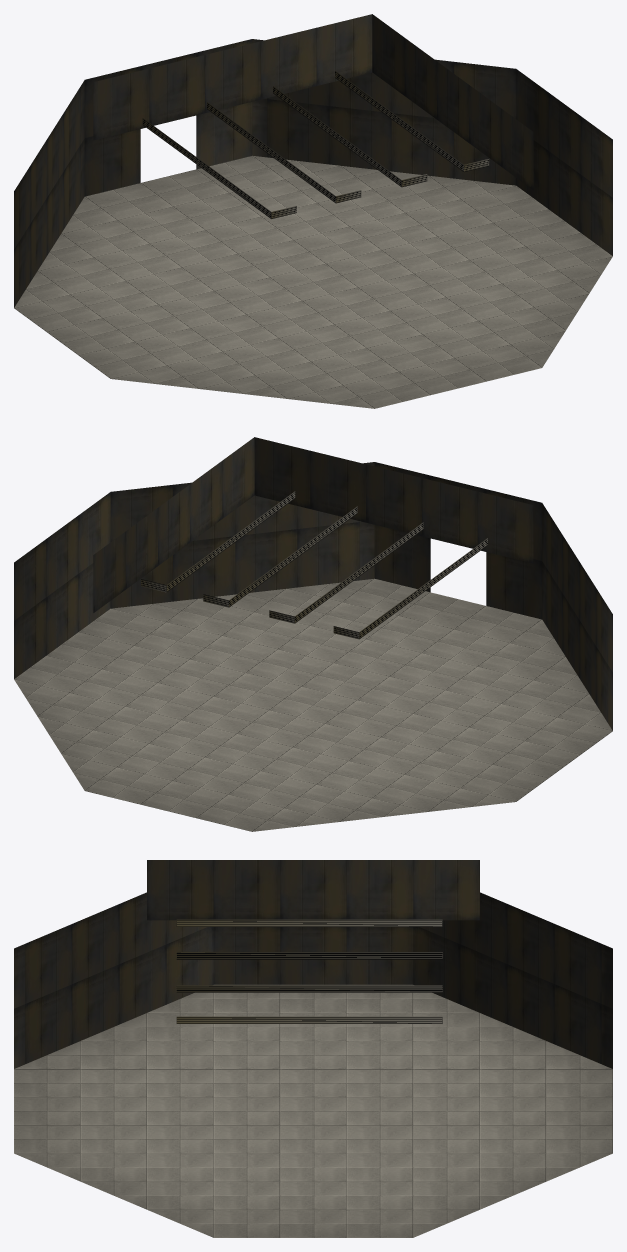
Rendered from room_12.glb.
The picture shows the model from 3 angles, top to bottom: view 1: azimuth 30°, elevation 25°; view 2: azimuth 150°, elevation 25°; view 3: azimuth 270°, elevation 25°; orthographic projection. The views are drawn at different scales.
Parts seen in each view (by area): view 1: floor, walls, Lights1, Lights2, Lights4, Lights6; view 2: floor, walls, Lights1, Lights2, Lights4, Lights6; view 3: floor, walls, Lights2, Lights4, Lights1, Lights6.
Boxes of the visible parts, <box> form: floor: <box>14,155,612,408</box>; walls: <box>14,14,612,307</box>; Lights1: <box>335,71,489,171</box>; Lights2: <box>273,86,427,187</box>; Lights4: <box>207,102,361,203</box>; Lights6: <box>142,118,296,218</box>; floor: <box>14,578,612,831</box>; walls: <box>14,437,612,730</box>; Lights1: <box>141,491,295,592</box>; Lights2: <box>203,506,357,607</box>; Lights4: <box>269,522,423,623</box>; Lights6: <box>333,538,487,639</box>; floor: <box>14,984,612,1237</box>; walls: <box>14,860,612,1068</box>; Lights2: <box>176,985,442,992</box>; Lights4: <box>176,952,442,959</box>; Lights1: <box>176,1016,442,1023</box>; Lights6: <box>176,919,442,926</box>.
Bounding box in the file's own units: 135 × 45 × 135.
Materials: 6 (6 with a texture image).
